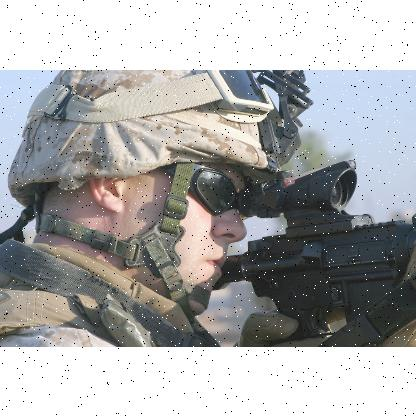gun: (212, 159, 414, 345)
